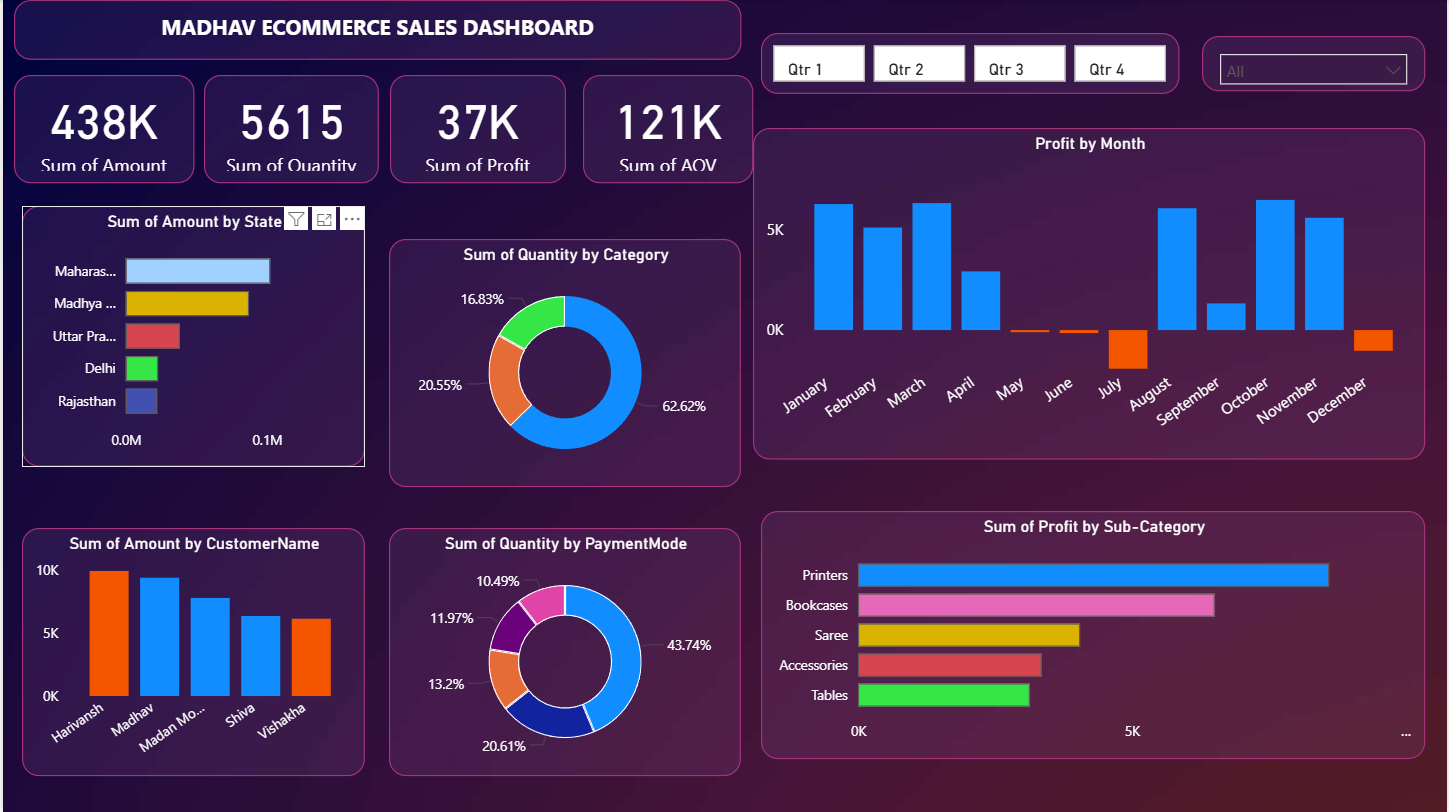

This screenshot's page, from the dashboard's own definition file:
{"tool":"powerbi","page":{"name":"Page 1","canvas":[1280,720],"ordinal":0},"visuals":[{"type":"textbox","box":[9.7,0,644.9,53.5],"z":0},{"type":"columnChart","title":"Profit by Month","fields":{"Category":["Orders.Order Date.Variation.Date Hierarchy.Month1"],"Y":["Details.Profit"]},"box":[665.3,113.8,596.2,293.7],"z":1000},{"type":"barChart","fields":{"Category":["Details.Sub-Category"],"Y":["Details.Profit"]},"box":[672.1,453.3,589.4,219.8],"z":2000},{"type":"donutChart","fields":{"Category":["Details.Category"],"Y":["Details.Quantity"]},"box":[342.4,212,312.2,219.8],"z":3000},{"type":"donutChart","fields":{"Category":["Details.PaymentMode"],"Y":["Details.Quantity"]},"box":[342.4,467.8,312.2,219.8],"z":4000},{"type":"card","fields":{"Values":["Details.Amount"]},"box":[9.7,66.1,159.5,96.3],"z":5000},{"type":"card","fields":{"Values":["Details.Quantity"]},"box":[178,66.1,154.7,96.3],"z":6000},{"type":"card","fields":{"Values":["Details.Profit"]},"box":[343.3,66.1,155.6,96.3],"z":7000},{"type":"card","fields":{"Values":["Details.AOV"]},"box":[514.5,66.1,150.8,96.3],"z":8000},{"type":"barChart","fields":{"Category":["Orders.State"],"Y":["Details.Amount"]},"box":[16.5,182.9,304.4,231.5],"z":9000},{"type":"columnChart","fields":{"Category":["Orders.CustomerName"],"Y":["Details.Amount"]},"box":[17,468,304,220],"z":10000},{"type":"advancedSlicerVisual","fields":{"Values":["Orders.Order Date.Variation.Date Hierarchy.Quarter"]},"box":[672.1,29.2,370.6,54.5],"z":11000},{"type":"slicer","fields":{"Values":["Orders.State"]},"box":[1063.1,32.1,198.4,48.6],"z":12000}]}

Visuals, with their boxes in screenshot pixels (x1, y1, x2, y2), scaled from the page's 1280x720 canvas onto the 1449x812 screenshot:
textbox: BBox(11, 0, 741, 60)
"Profit by Month" columnChart: BBox(753, 128, 1428, 460)
barChart - Details.Sub-Category x Details.Profit: BBox(761, 511, 1428, 759)
donutChart - Details.Category x Details.Quantity: BBox(388, 239, 741, 487)
donutChart - Details.PaymentMode x Details.Quantity: BBox(388, 528, 741, 775)
card - Details.Amount: BBox(11, 75, 192, 183)
card - Details.Quantity: BBox(202, 75, 377, 183)
card - Details.Profit: BBox(389, 75, 565, 183)
card - Details.AOV: BBox(582, 75, 753, 183)
barChart - Orders.State x Details.Amount: BBox(19, 206, 363, 467)
columnChart - Orders.CustomerName x Details.Amount: BBox(19, 528, 363, 776)
advancedSlicerVisual - Orders.Order Date.Variation.Date Hierarchy.Quarter: BBox(761, 33, 1180, 94)
slicer - Orders.State: BBox(1203, 36, 1428, 91)
